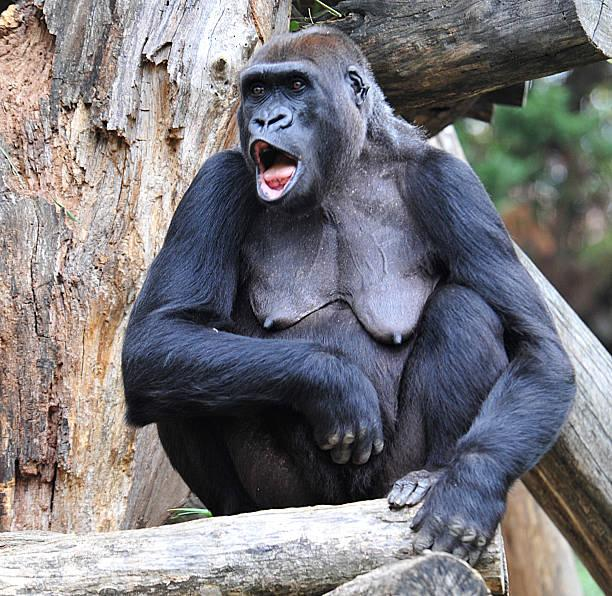gorille_Autres: (90, 7, 589, 555)
